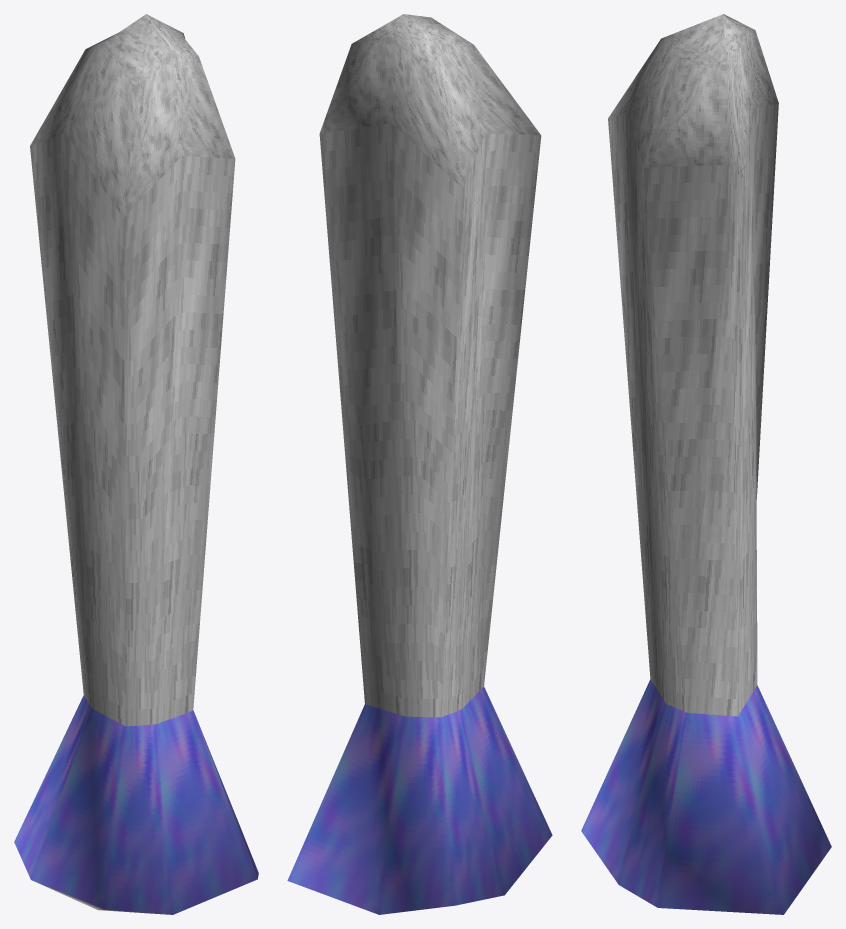
Rendered from rock_10.glb.
The picture shows the model from 3 angles, left to right: view 1: azimuth 30°, elevation 25°; view 2: azimuth 150°, elevation 25°; view 3: azimuth 270°, elevation 25°; orthographic projection.
Parts seen in each view (by area): view 1: rock10-col; view 2: rock10-col; view 3: rock10-col.
Part boxes in pixels (x1,y1,x2,y2): rock10-col: (14, 14, 258, 914); rock10-col: (287, 14, 552, 914); rock10-col: (581, 14, 831, 914).
Size of the model in its own units: 1.82 by 7.76 by 2.05.
Materials: 2 (2 with a texture image).
